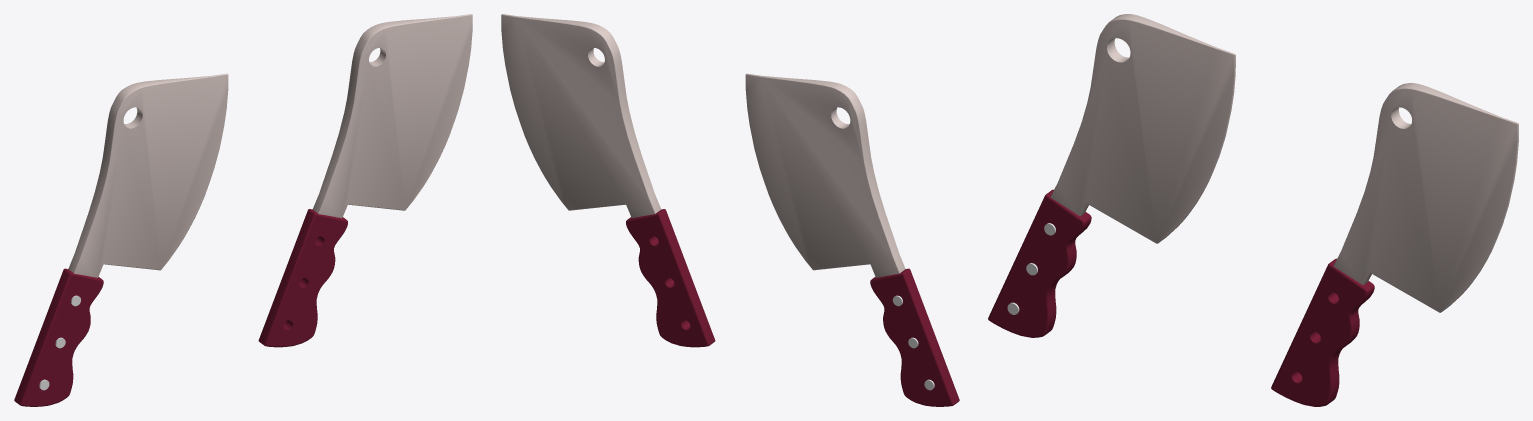
The model's file is cleaver.fbx.
The picture shows the model from 3 angles, left to right: view 1: azimuth 30°, elevation 25°; view 2: azimuth 150°, elevation 25°; view 3: azimuth 330°, elevation 25°; orthographic projection. The views are drawn at different scales.
Visible parts, largest first — view 1: Plane.003, Plane.004; view 2: Plane.003, Plane.004; view 3: Plane.003, Plane.004.
Boxes of the visible parts, left/top/right/bottom form: Plane.003: left=258, top=14, right=472, bottom=347; Plane.004: left=14, top=73, right=228, bottom=406; Plane.003: left=501, top=14, right=715, bottom=347; Plane.004: left=745, top=73, right=959, bottom=406; Plane.003: left=1271, top=83, right=1518, bottom=406; Plane.004: left=988, top=14, right=1235, bottom=337.
Bounding box in the file's own units: 734 × 456 × 25.34.
